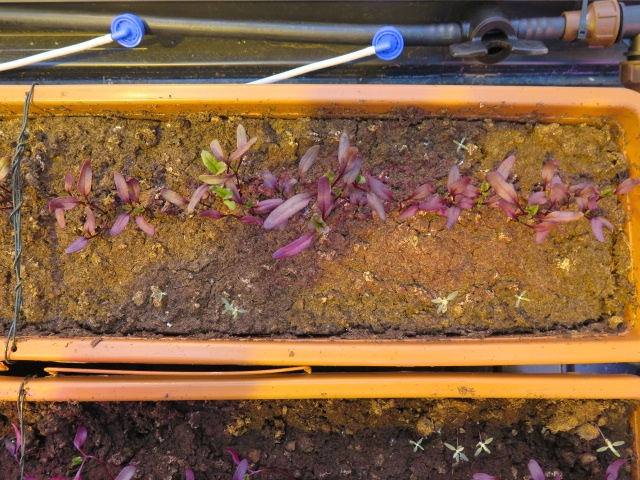crop: (257, 164, 325, 264), (337, 129, 402, 231), (195, 123, 250, 230), (50, 156, 112, 250), (300, 144, 350, 251), (574, 164, 632, 237), (531, 152, 575, 243), (158, 168, 213, 232), (487, 153, 525, 237), (400, 201, 491, 232), (404, 168, 488, 199), (126, 176, 161, 244), (108, 164, 132, 243)
weed: (427, 288, 460, 316), (592, 435, 626, 461), (442, 440, 469, 467), (509, 286, 533, 310), (473, 434, 495, 457), (450, 133, 471, 155), (407, 432, 426, 454), (150, 283, 168, 304)
